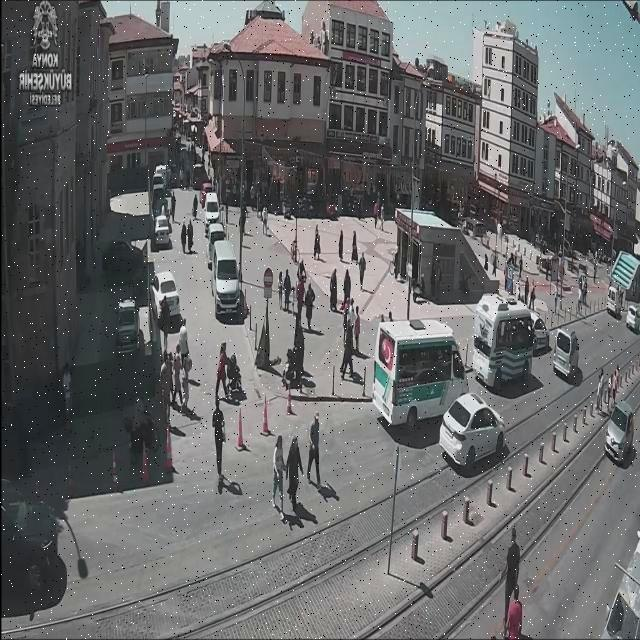Car: (3, 481, 71, 614), (439, 391, 507, 467), (600, 521, 638, 640), (604, 400, 636, 464), (150, 272, 181, 330), (554, 330, 580, 380), (115, 300, 139, 354), (528, 311, 550, 352), (204, 191, 221, 231), (206, 223, 226, 254), (154, 214, 172, 248), (606, 285, 624, 319), (192, 163, 209, 190), (625, 304, 639, 334), (199, 182, 213, 208), (154, 165, 168, 189), (153, 182, 166, 206), (156, 165, 167, 175)
Truck: (372, 318, 464, 428), (472, 294, 532, 384)
Van: (211, 241, 242, 317)
